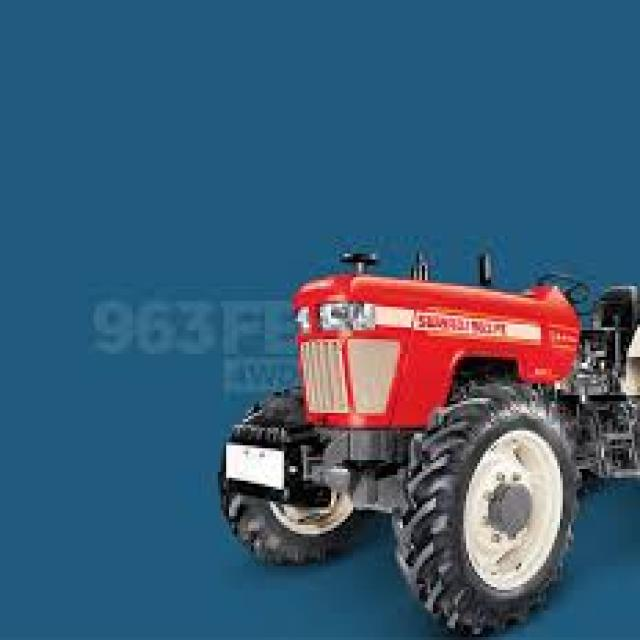tractor: (221, 257, 637, 637)
